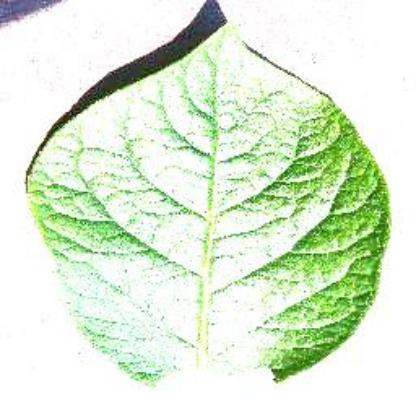Healthy-plant: (24, 16, 392, 400)
